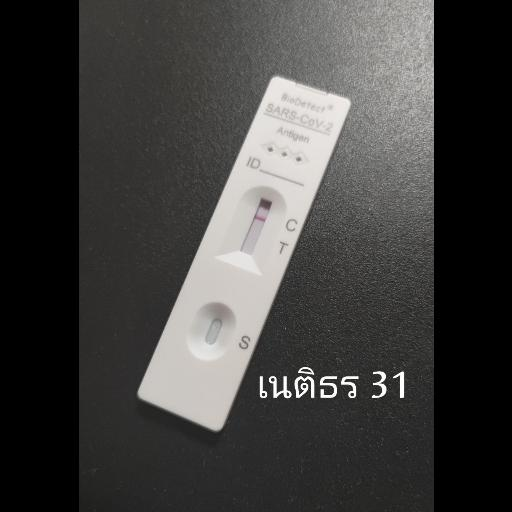Neg: (133, 75, 353, 432)
